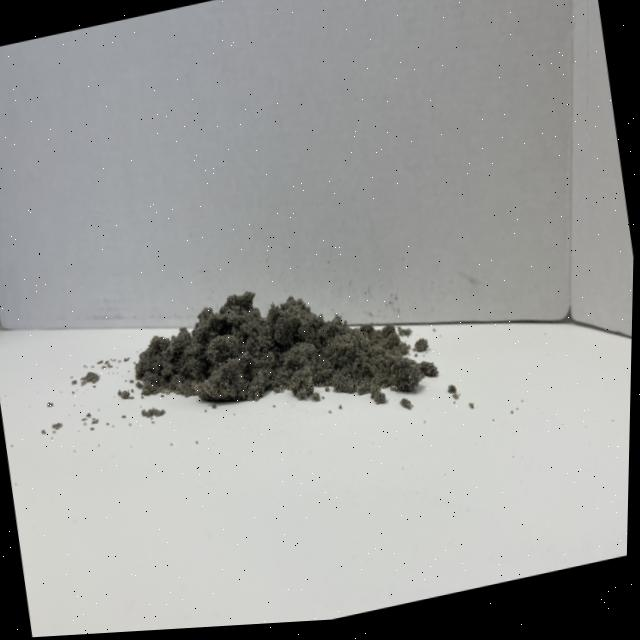sand: (103, 214, 462, 462)
